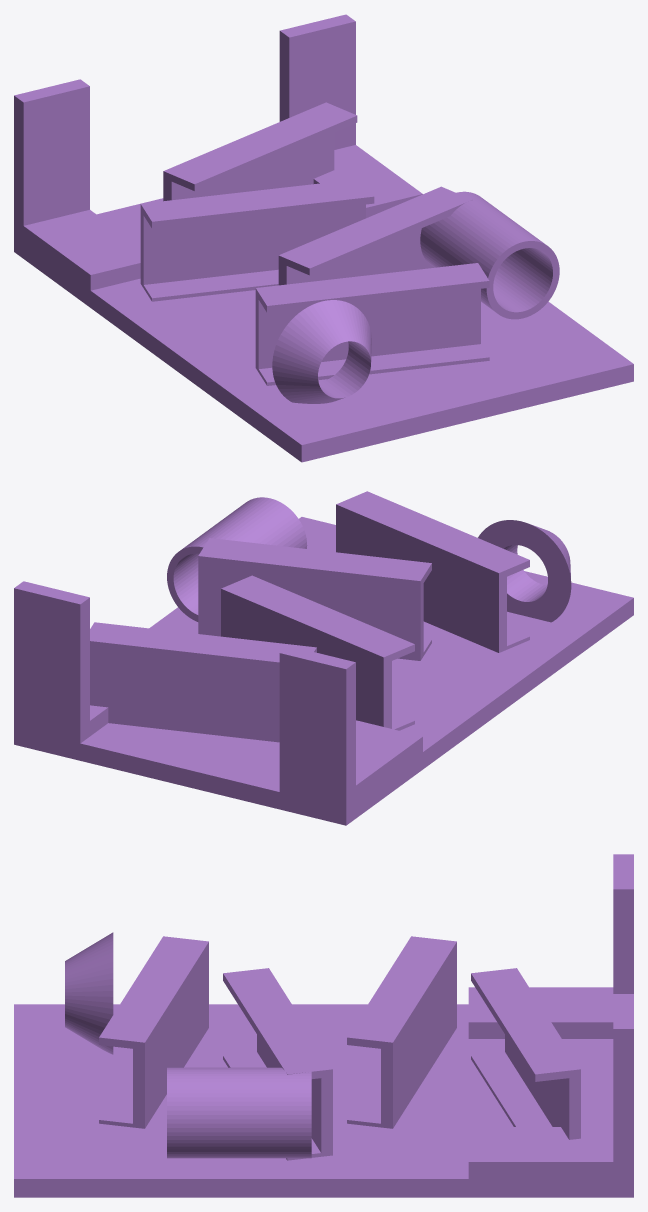
File: ep6-marble-run.glb
3 renders of one model, top to bottom at view 1: azimuth 30°, elevation 25°; view 2: azimuth 150°, elevation 25°; view 3: azimuth 270°, elevation 25°, orthographic. The views are drawn at different scales.
Visible parts, largest first — view 1: world; view 2: world; view 3: world.
Boxes of the visible parts, x1,y1,x2,y2 form: world: (14,14,633,462); world: (14,491,633,825); world: (14,854,633,1197).
Bounding box in the file's own units: 100 × 45 × 150.
